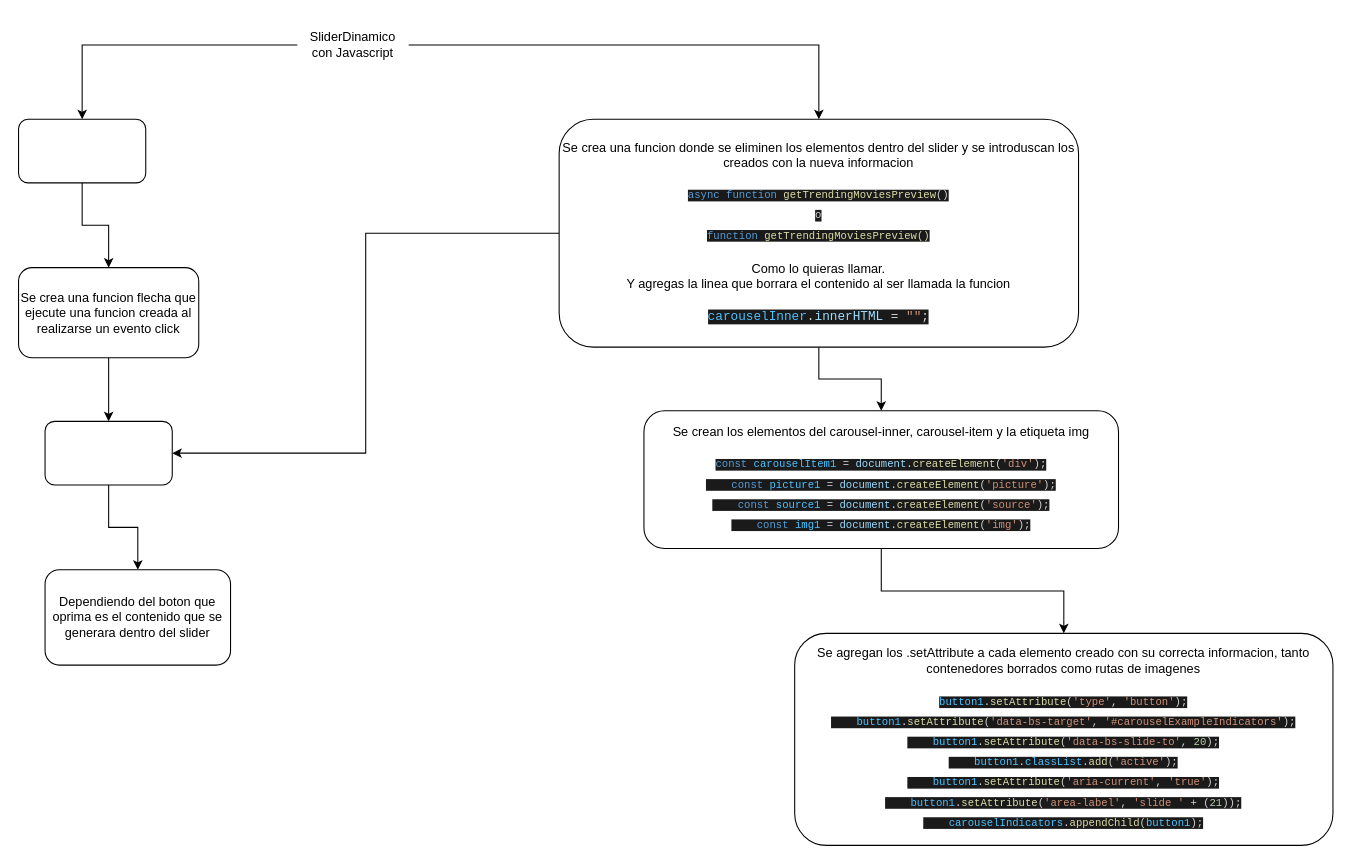
This 1351x864 diagram has some shape labels left out. The shapes that lost their labels are listed below. From the top down, each one's box as (x1, y1, x2, y2) in pixels, then its label:
(17, 118, 146, 183): Se Seleccionan los elementos de cada etiqueta del slider
(44, 420, 172, 485): Se llama a la funcion
